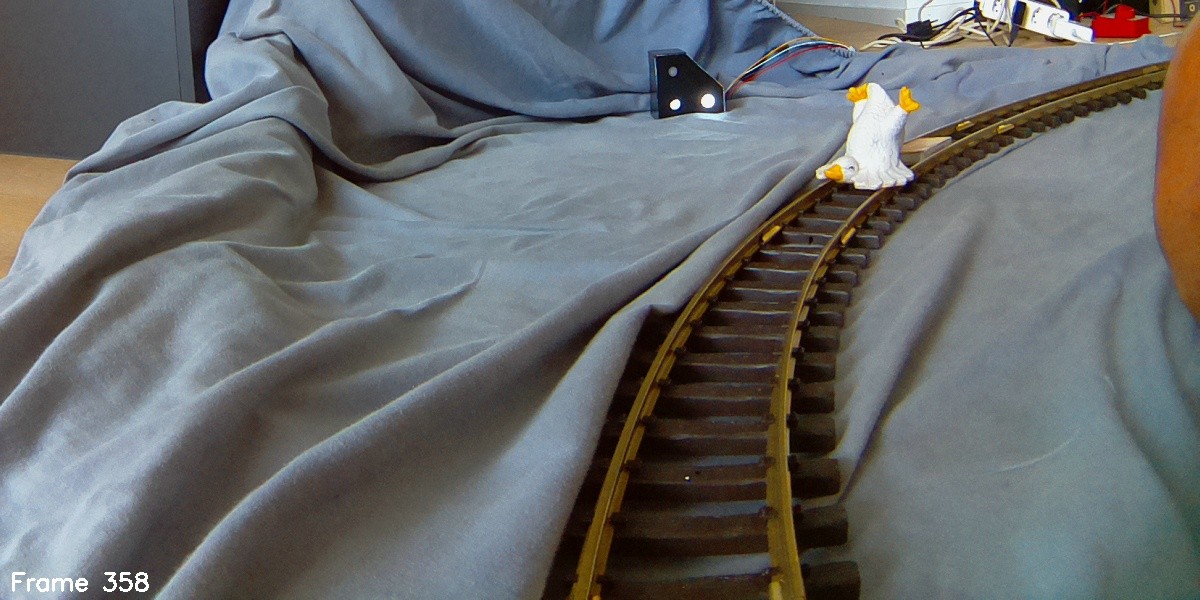Ente: (812, 79, 918, 192)
Halt: (647, 50, 726, 121)
